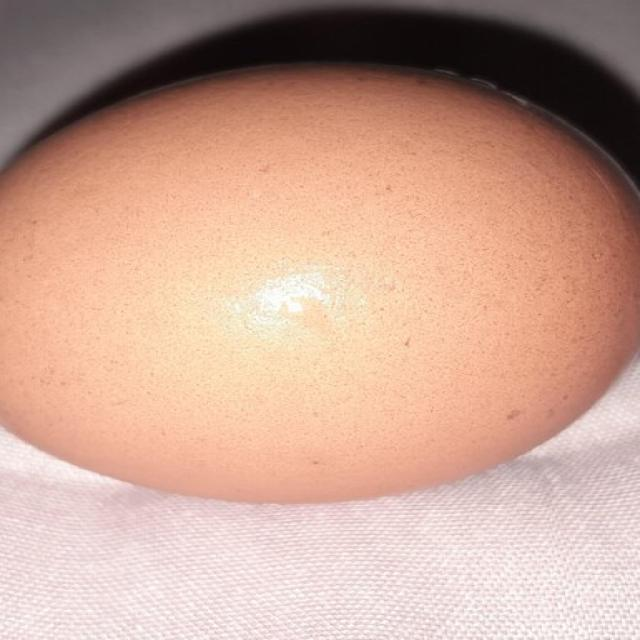fresh: (0, 42, 640, 508)
